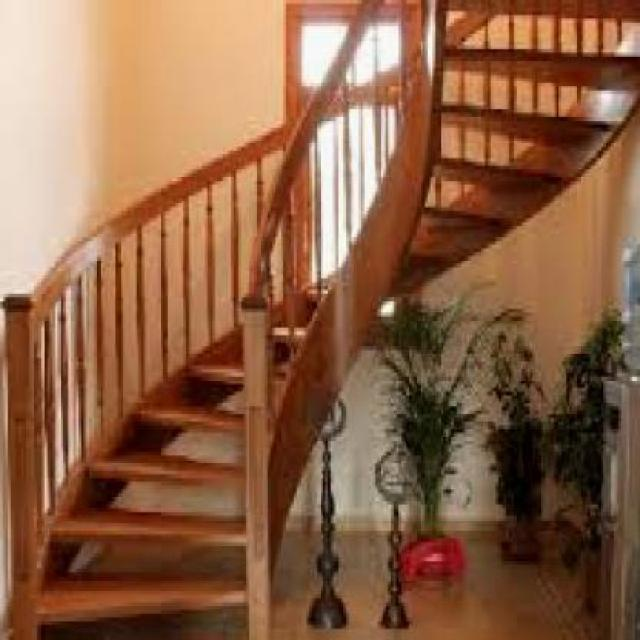stair: (0, 71, 375, 636)
